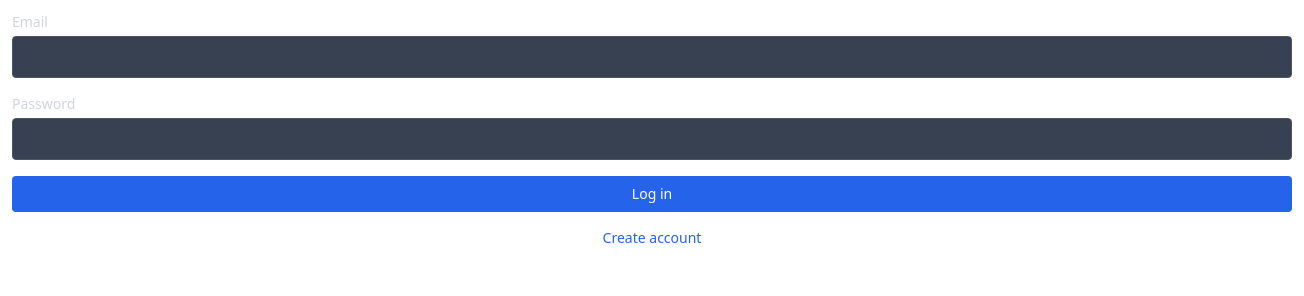
Test: LoginForm › shows error message on login failure
Type "alice@test.com" into the field labelled "Email" at (652, 57), box [12,36,1292,78]
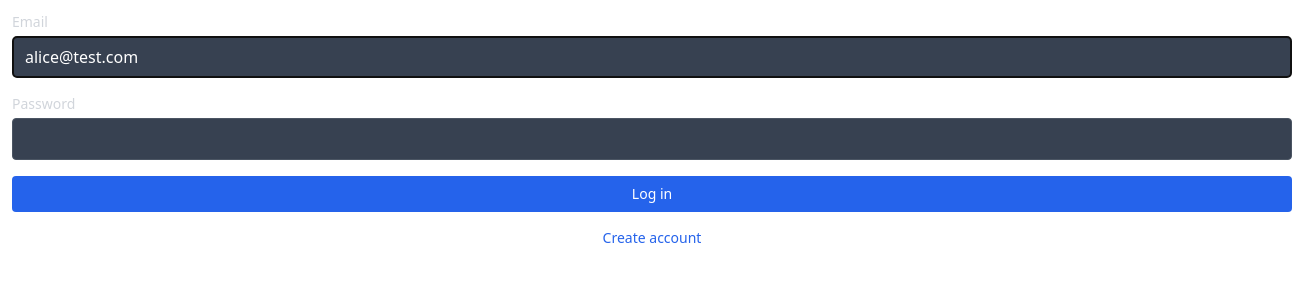
Type "wrong" into the password field labelled "Password" at (652, 139), box [12,118,1292,160]
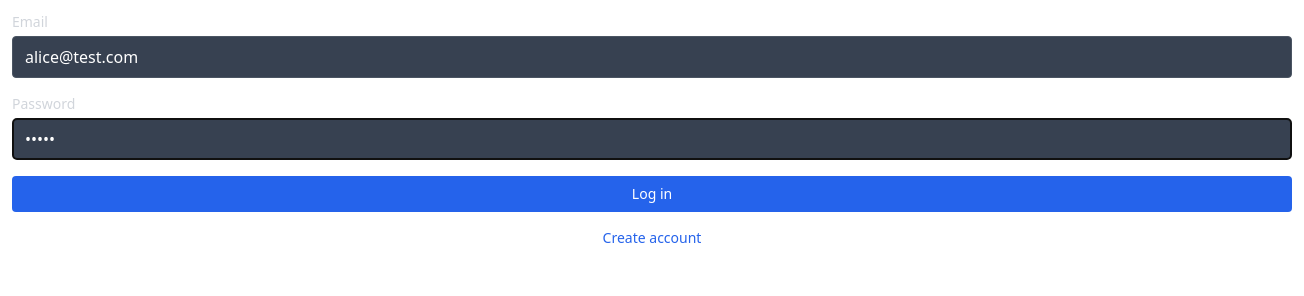
Click the button "Log in" at (652, 194), box [12,176,1292,212]
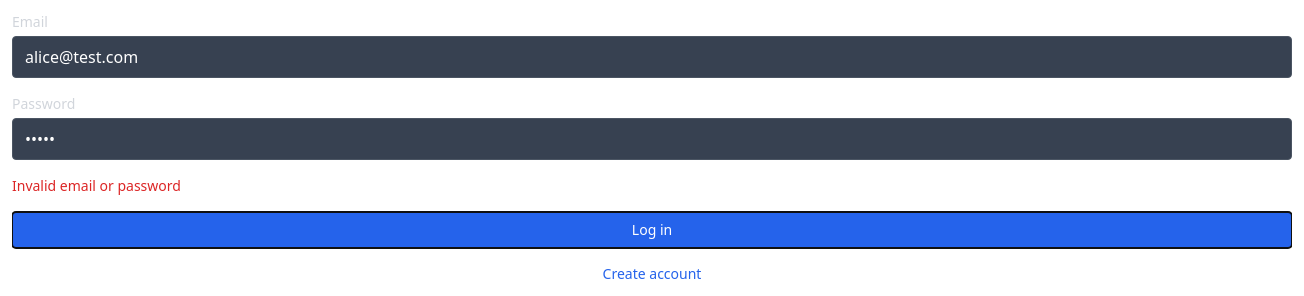
Check: the text "Invalid email or password" is shown, box [12,176,181,195]
